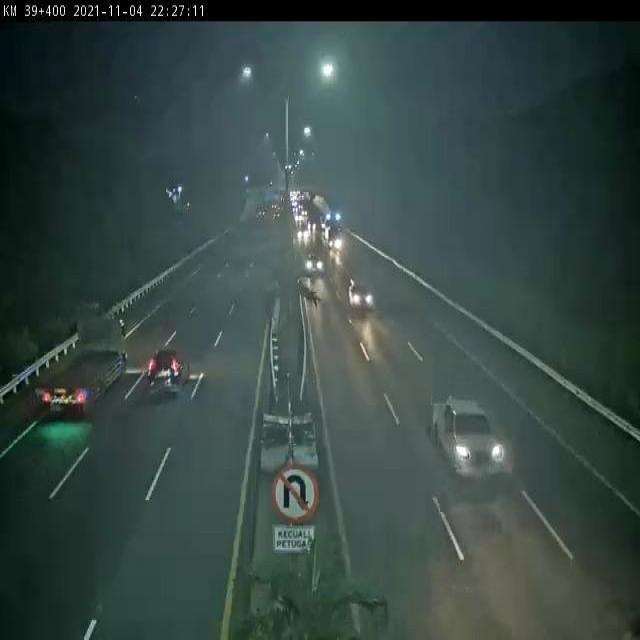car: (428, 392, 509, 481), (145, 344, 193, 396), (345, 279, 374, 312), (303, 252, 325, 277)
truck-m-: (33, 312, 131, 415)
